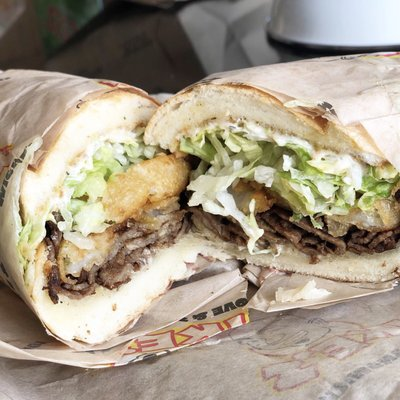soup: (148, 79, 400, 289)
sushi: (266, 0, 400, 55)
